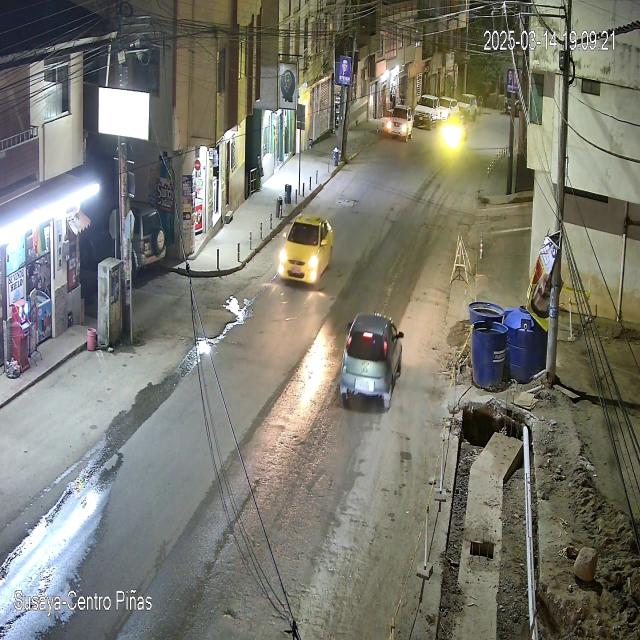SED: (340, 314, 403, 410), (278, 214, 333, 288)
